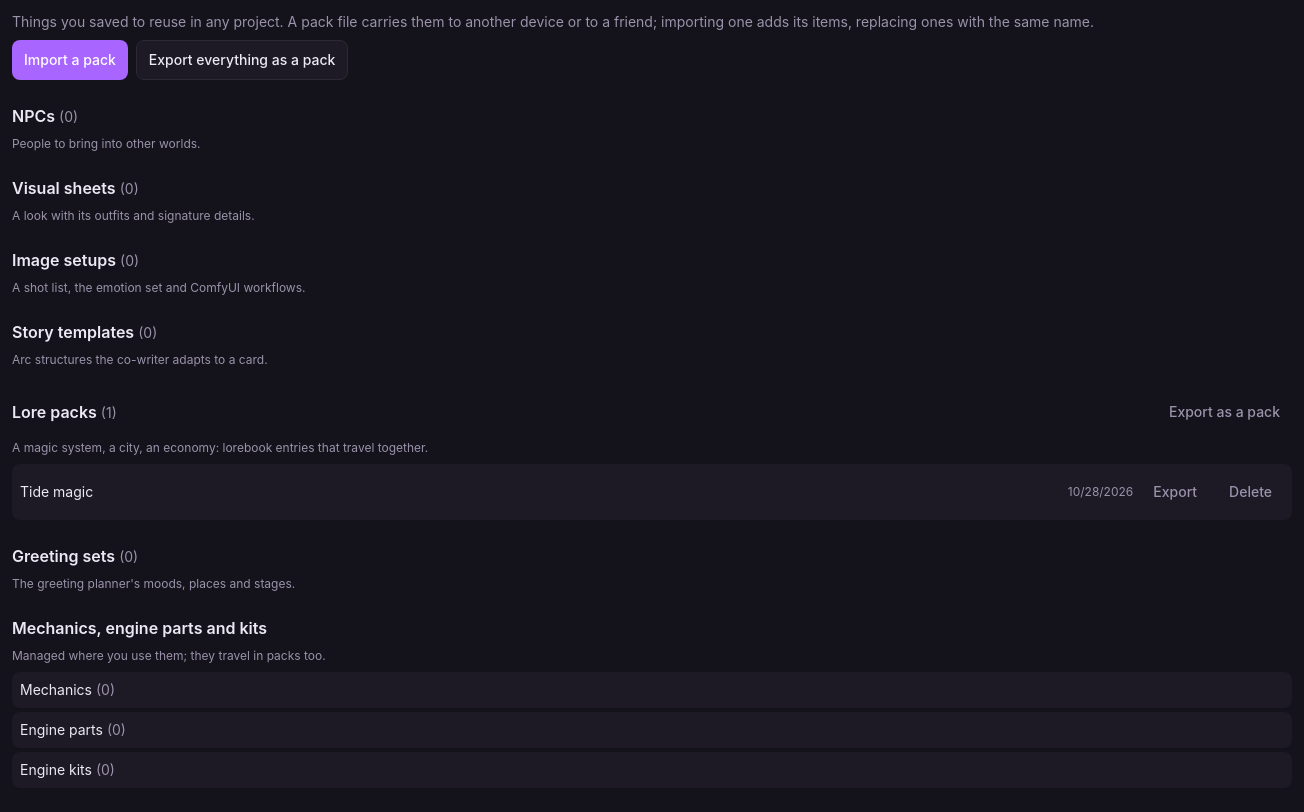
libraries › lists and deletes saved items on the Libraries page
Check: the text "Tide magic" is shown, box [20,483,93,500]
Click the button with aria-label "Delete Tide magic" at (1251, 492), box [1217,472,1284,512]
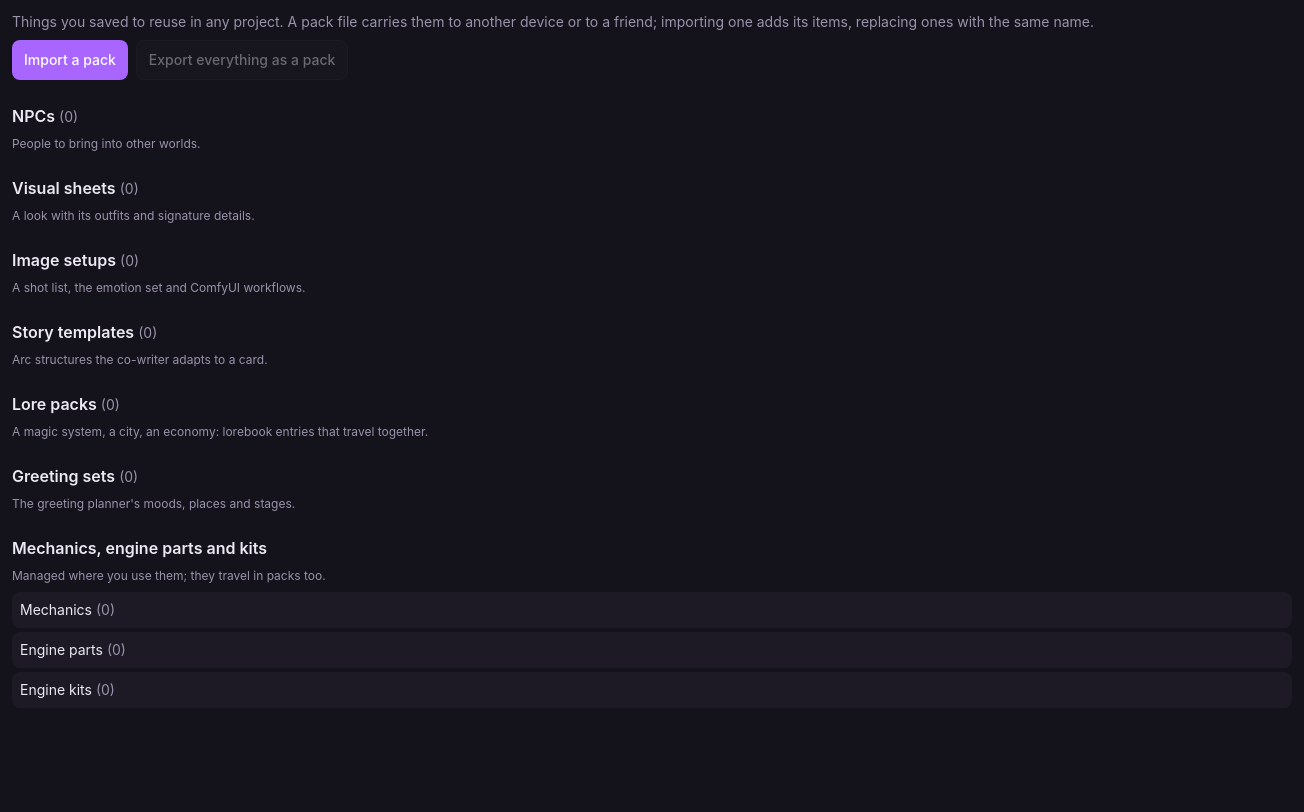
Check: the text "Tide magic" is gone
